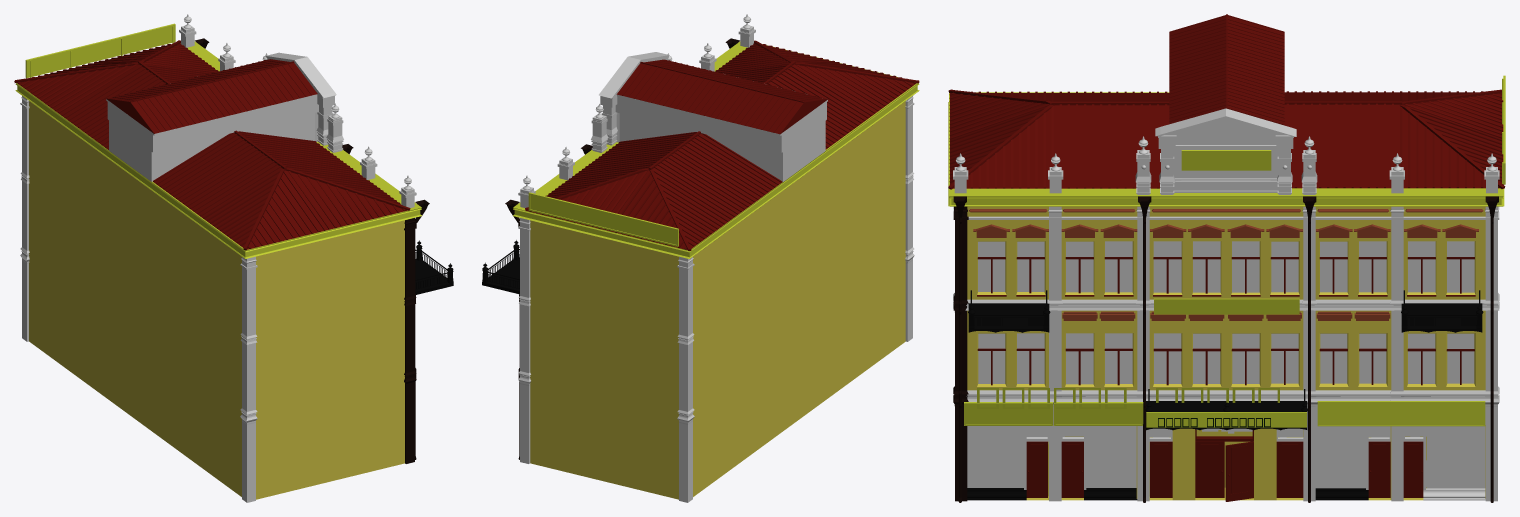
The model's file is Гостиница_Националь-2.obj.
The picture shows the model from 3 angles, left to right: view 1: azimuth 30°, elevation 25°; view 2: azimuth 150°, elevation 25°; view 3: azimuth 270°, elevation 25°; orthographic projection. The views are drawn at different scales.
Visible parts, largest first — view 1: Base, Roof_3, Superstructure, Roof_2, Roof_4, Roof_1, Column_7, Signboard_7, Column_1, Column_8, Balcony_1, Column_13; view 2: Base, Roof_4, Superstructure, Roof_2, Roof_3, Roof_1, Column_8, Signboard_7, Column_2, Column_7, Balcony_2, Column_14; view 3: Base, Roof_4, Roof_3, Roof_2, Roof_1, Superstructure, Decor_1, Signboard_2, Column_6, Column_3, Column_2, Column_1 (+36 smaller).
Boxes of the visible parts, left/top/right/bottom form: Base: left=29, top=101, right=404, bottom=499; Roof_3: left=153, top=130, right=410, bottom=250; Superstructure: left=106, top=52, right=336, bottom=181; Roof_2: left=106, top=59, right=317, bottom=133; Roof_4: left=14, top=40, right=217, bottom=149; Roof_1: left=15, top=41, right=421, bottom=258; Column_7: left=240, top=256, right=257, bottom=502; Signboard_7: left=25, top=23, right=175, bottom=78; Column_1: left=404, top=218, right=416, bottom=463; Column_8: left=20, top=96, right=29, bottom=341; Balcony_1: left=415, top=240, right=453, bottom=294; Column_13: left=326, top=103, right=343, bottom=152; Base: left=530, top=101, right=905, bottom=499; Roof_4: left=525, top=131, right=782, bottom=250; Superstructure: left=599, top=52, right=827, bottom=181; Roof_2: left=616, top=59, right=827, bottom=134; Roof_3: left=715, top=40, right=919, bottom=149; Roof_1: left=513, top=41, right=919, bottom=258; Column_8: left=677, top=256, right=694, bottom=502; Signboard_7: left=528, top=192, right=678, bottom=246; Column_2: left=518, top=218, right=530, bottom=463; Column_7: left=905, top=96, right=914, bottom=341; Balcony_2: left=482, top=240, right=519, bottom=294; Column_14: left=591, top=103, right=608, bottom=152; Base: left=967, top=206, right=1485, bottom=500; Roof_4: left=1284, top=89, right=1505, bottom=188; Roof_3: left=948, top=89, right=1169, bottom=189; Roof_2: left=1169, top=14, right=1284, bottom=125; Roof_1: left=948, top=92, right=1504, bottom=206; Superstructure: left=1155, top=108, right=1296, bottom=194; Decor_1: left=973, top=224, right=1478, bottom=237; Signboard_2: left=1317, top=401, right=1485, bottom=426; Column_6: left=1047, top=206, right=1062, bottom=501; Column_3: left=1390, top=206, right=1404, bottom=501; Column_2: left=1484, top=206, right=1499, bottom=501; Column_1: left=953, top=206, right=968, bottom=501.
Size of the model in its own units: 3.8 by 5.29 by 6.88.
